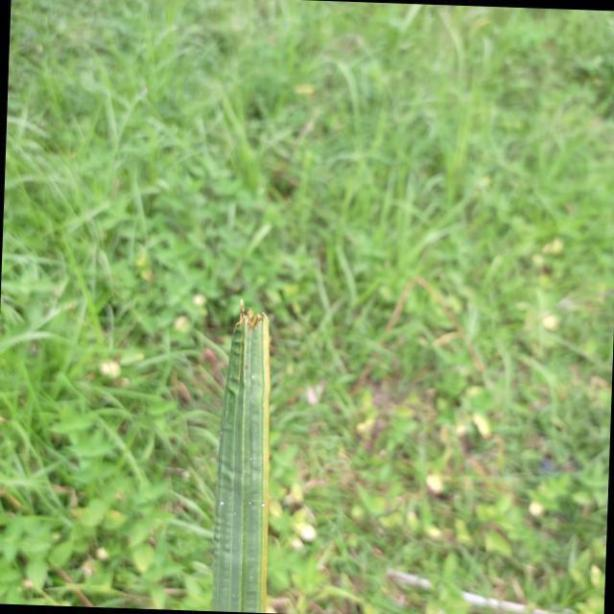Boron: (211, 292, 275, 614)
